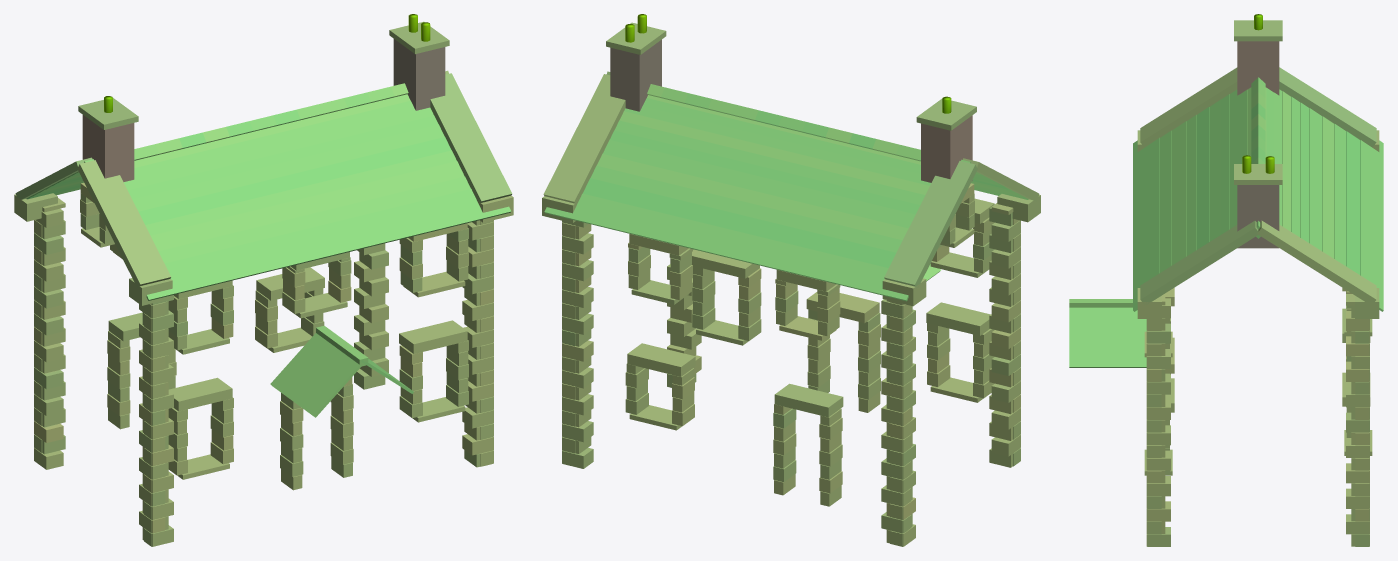
The model's file is SM_Bld_211_Stone.glb.
3 views of the same model, side by side, from view 1: azimuth 30°, elevation 25°; view 2: azimuth 150°, elevation 25°; view 3: azimuth 270°, elevation 25° (orthographic). The views are drawn at different scales.
Visible parts, largest first — view 1: SM_Bld_211_Stone; view 2: SM_Bld_211_Stone; view 3: SM_Bld_211_Stone.
Boxes of the visible parts, bbox=[...] form: SM_Bld_211_Stone: bbox=[14, 14, 513, 546]; SM_Bld_211_Stone: bbox=[542, 14, 1040, 546]; SM_Bld_211_Stone: bbox=[1069, 14, 1383, 546].
Size of the model in its own units: 8.69 by 9.03 by 6.73.
